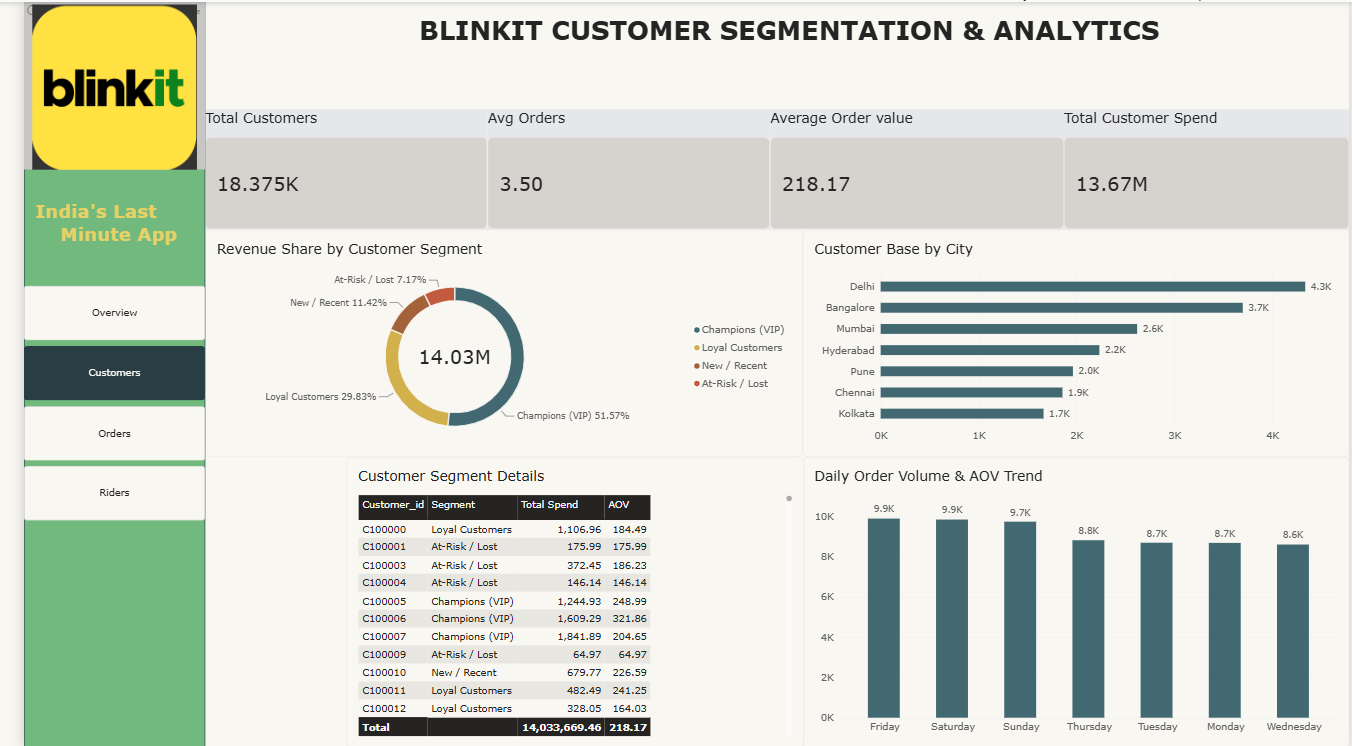

The page's visual inventory and layout, read from the dashboard file:
{"tool":"powerbi","page":{"name":"Customers ","canvas":[1920,1080],"ordinal":1},"visuals":[{"type":"textbox","box":[572.2,0,1114.7,123.6],"z":0},{"type":"cardVisual","title":"Total Customers","fields":{"Data":["Count(Blinkit_PowerBI_Data.Customer_id)"]},"box":[262.4,155.6,409,173.7],"z":1000},{"type":"cardVisual","title":"Average Order value","fields":{"Data":["Blinkit_PowerBI_Data.AOV"]},"box":[1080.4,155.6,425.3,173.7],"z":2000},{"type":"cardVisual","title":"Total Customer Spend","fields":{"Data":["Sum(Blinkit_PowerBI_Data.gross_amount)"]},"box":[1505.6,155.6,414.4,173.7],"z":3000},{"type":"cardVisual","title":"Avg Orders ","fields":{"Data":["Blinkit_PowerBI_Data.Avg Orders Per Customer"]},"box":[671.4,155.6,409,173.7],"z":4000},{"type":"donutChart","title":"Revenue Share by Customer Segment","fields":{"Category":["Blinkit_PowerBI_Data.Segment"],"Y":["Sum(Blinkit_PowerBI_Data.net_amount)"]},"box":[263.3,329.8,864.7,329.8],"z":5000},{"type":"clusteredBarChart","title":" Customer Base by City","fields":{"Category":["Blinkit_PowerBI_Data.city"],"Y":["Count(Blinkit_PowerBI_Data.Customer_id)"]},"box":[1127.9,329.8,792.6,329.8],"z":6000},{"type":"clusteredColumnChart","title":"Daily Order Volume & AOV Trend","fields":{"Category":["Blinkit_PowerBI_Data.day_of_week"],"Y":["CountNonNull(Blinkit_PowerBI_Data.order_id)"]},"box":[1127.9,659.6,792.6,421.2],"z":7000},{"type":"shape","box":[0,0,262.4,1080.4],"z":8000},{"type":"image","box":[0,0,262.4,242.5],"z":9000},{"type":"image","box":[0,3.6,262.4,238.9],"z":10000},{"type":"pageNavigator","box":[0,410.8,262.4,340.2],"z":11000},{"type":"tableEx","title":"Customer Segment Details","fields":{"Values":["Blinkit_PowerBI_Data.Customer_id","Blinkit_PowerBI_Data.Segment","Sum(Blinkit_PowerBI_Data.net_amount)","Blinkit_PowerBI_Data.AOV"]},"box":[467.2,659.5,662.6,421.4],"z":12000},{"type":"textbox","box":[16,286.1,217.5,87],"z":13000}]}

Visuals, with their boxes in screenshot pixels (x1, y1, x2, y2), scaled from the page's 1920x1080 canvas onto the 1352x746 screenshot:
textbox: locate(403, 0, 1188, 85)
"Total Customers" cardVisual: locate(185, 107, 473, 227)
"Average Order value" cardVisual: locate(761, 107, 1060, 227)
"Total Customer Spend" cardVisual: locate(1060, 107, 1351, 227)
"Avg Orders " cardVisual: locate(473, 107, 761, 227)
"Revenue Share by Customer Segment" donutChart: locate(185, 228, 794, 456)
" Customer Base by City" clusteredBarChart: locate(794, 228, 1351, 456)
"Daily Order Volume & AOV Trend" clusteredColumnChart: locate(794, 456, 1351, 745)
shape: locate(0, 0, 185, 745)
image: locate(0, 0, 185, 168)
image: locate(0, 2, 185, 168)
pageNavigator: locate(0, 284, 185, 519)
"Customer Segment Details" tableEx: locate(329, 456, 796, 745)
textbox: locate(11, 198, 164, 258)
